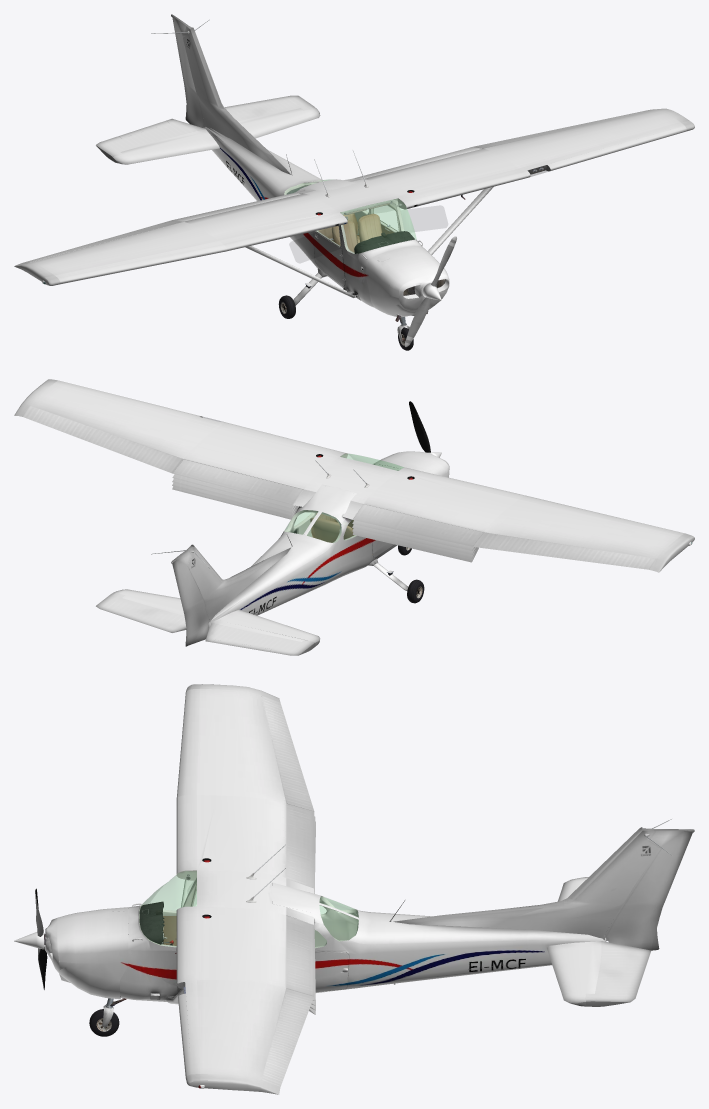
Rendered from EI-MCF.gltf.
3 renders of one model, top to bottom at view 1: azimuth 30°, elevation 25°; view 2: azimuth 150°, elevation 25°; view 3: azimuth 270°, elevation 25°, orthographic. The views are drawn at different scales.
Parts seen in each view (by area): view 1: Exterior, Pose_flaps_0; view 2: Exterior, Pose_flaps_0, Pose_flaps_1, Pose_flaps_2, Pose_flaps_3, Pose_flaps_4; view 3: Exterior, Pose_flaps_0.
Boxes of the visible parts, x1,y1,x2,y2 form: Exterior: (14, 14, 694, 350); Pose_flaps_0: (173, 147, 482, 221); Exterior: (14, 379, 694, 655); Pose_flaps_0: (173, 459, 483, 546); Pose_flaps_1: (172, 474, 474, 550); Pose_flaps_2: (172, 478, 476, 554); Pose_flaps_3: (172, 482, 476, 558); Pose_flaps_4: (172, 486, 478, 562); Exterior: (14, 684, 694, 1094); Pose_flaps_0: (286, 803, 314, 995).
Size of the model in its own units: 11.32 by 2.77 by 8.17.
Materials: 145 (135 with a texture image).
